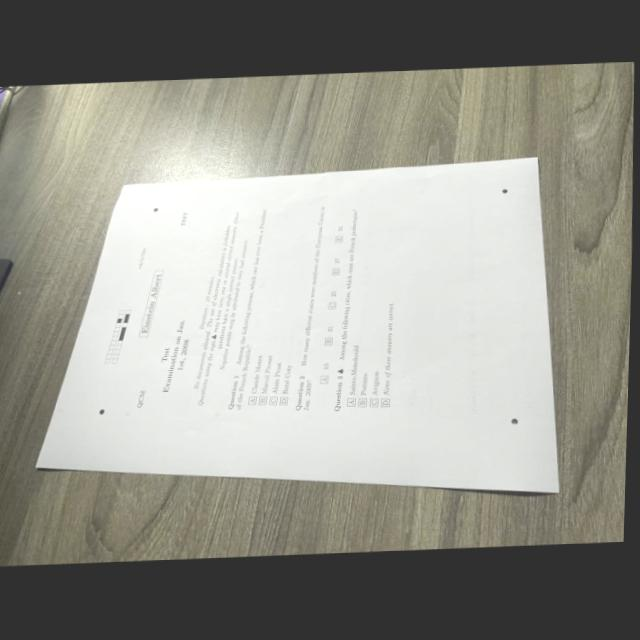Markers: (511, 417, 518, 424), (500, 188, 508, 193), (98, 408, 104, 414), (153, 207, 158, 211)
